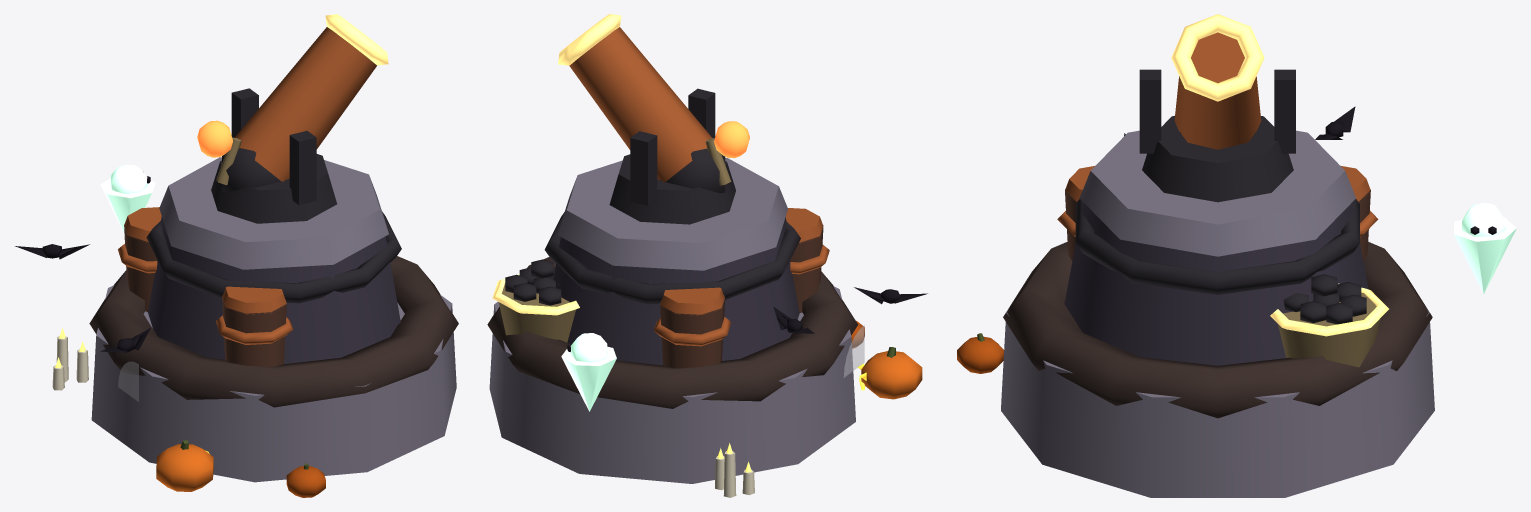
The model's file is tower_mine_minefield.glb.
3 views of the same model, side by side, from view 1: azimuth 30°, elevation 25°; view 2: azimuth 150°, elevation 25°; view 3: azimuth 270°, elevation 25° (orthographic). The views are drawn at different scales.
Visible parts, largest first — view 1: base, earthwall, bunker, bunker_cap, mortar_tube, bunker_band, turret_yoke, barrel_0, deco_hw_jack_body, turret_trunnion_l, barrel_lid_0, mortar_breech (+12 smaller); view 2: base, earthwall, bunker_cap, bunker, mortar_tube, bunker_band, turret_yoke, barrel_1, deco_hw_jack_body, mine_basket, turret_trunnion_r, deco_hw_ghost_sheet (+13 smaller); view 3: base, earthwall, bunker, bunker_cap, turret_yoke, bunker_band, mortar_tube, mortar_mouth, mine_basket, deco_hw_ghost_sheet, turret_trunnion_l, turret_trunnion_r (+3 smaller).
Boxes of the visible parts, box(x1,y1,x2,y2) form: base: box(91, 285, 456, 482); earthwall: box(89, 256, 458, 407); bunker: box(148, 216, 400, 364); bunker_cap: box(159, 157, 388, 269); mortar_tube: box(234, 27, 376, 181); bunker_band: box(146, 211, 401, 303); turret_yoke: box(211, 154, 336, 223); barrel_0: box(222, 296, 286, 366); deco_hw_jack_body: box(156, 444, 213, 491); turret_trunnion_l: box(289, 130, 316, 204); barrel_lid_0: box(222, 286, 286, 314); mortar_breech: box(222, 148, 286, 192); base: box(489, 286, 855, 483); earthwall: box(487, 257, 857, 408); bunker_cap: box(557, 158, 787, 270); bunker: box(553, 217, 799, 365); mortar_tube: box(569, 27, 711, 182); bunker_band: box(544, 212, 800, 304); turret_yoke: box(609, 154, 735, 224); barrel_1: box(660, 298, 724, 368); deco_hw_jack_body: box(861, 351, 922, 399); mine_basket: box(499, 283, 575, 342); turret_trunnion_r: box(630, 131, 657, 205); deco_hw_ghost_sheet: box(561, 346, 616, 411); base: box(1001, 308, 1434, 497); earthwall: box(1003, 242, 1432, 418); bunker: box(1064, 202, 1368, 365); bunker_cap: box(1079, 130, 1355, 256); turret_yoke: box(1142, 116, 1293, 202); bunker_band: box(1075, 199, 1359, 294); mortar_tube: box(1174, 32, 1261, 149); mortar_mouth: box(1171, 14, 1264, 101); mine_basket: box(1278, 292, 1380, 367); deco_hw_ghost_sheet: box(1454, 217, 1516, 293); turret_trunnion_l: box(1139, 69, 1161, 153); turret_trunnion_r: box(1274, 69, 1295, 153).
Size of the model in its own units: 0.4635 by 0.4369 by 0.5159.
